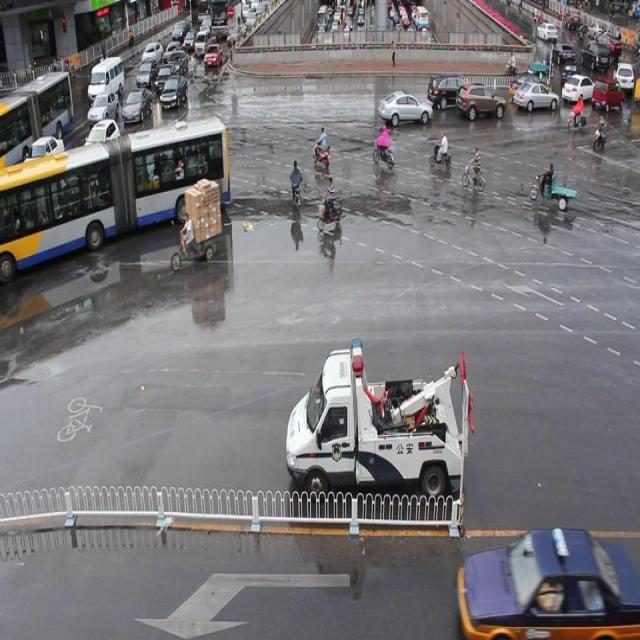bus: (285, 338, 464, 498)
car: (377, 90, 431, 128), (455, 80, 505, 120), (427, 73, 476, 108), (513, 79, 557, 109), (508, 74, 552, 99)
van: (1, 120, 229, 236)
